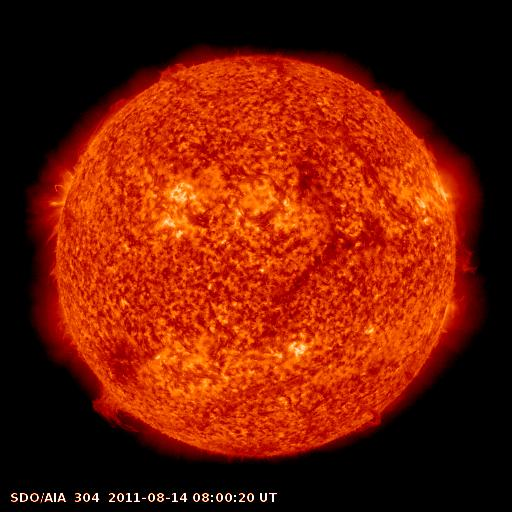prominence: (83, 379, 163, 442), (71, 92, 134, 161), (448, 228, 486, 289), (351, 404, 395, 438), (158, 54, 192, 89)
